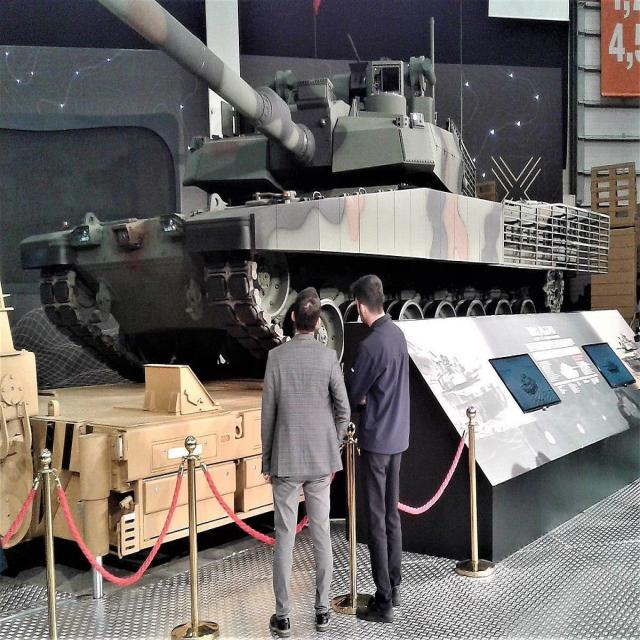Tanks: (27, 8, 610, 323)
